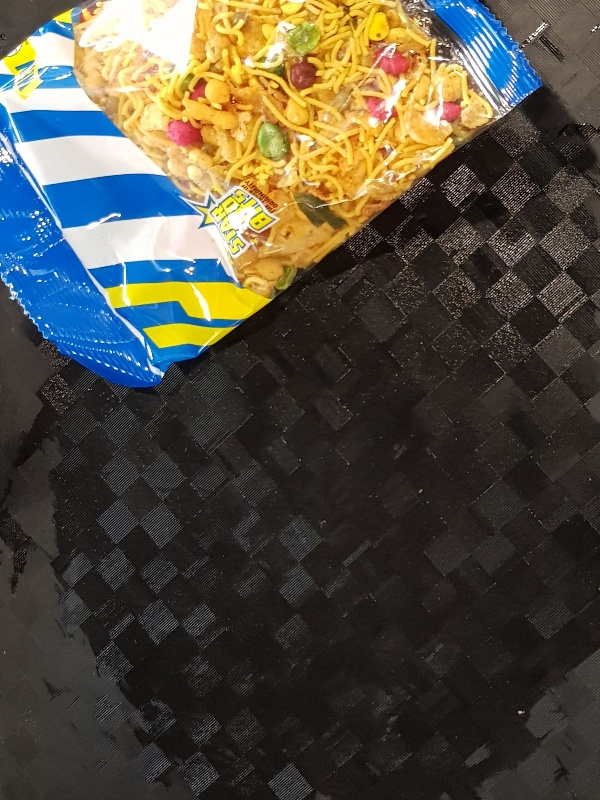Star Tidbits Mixer: (1, 1, 543, 389)
